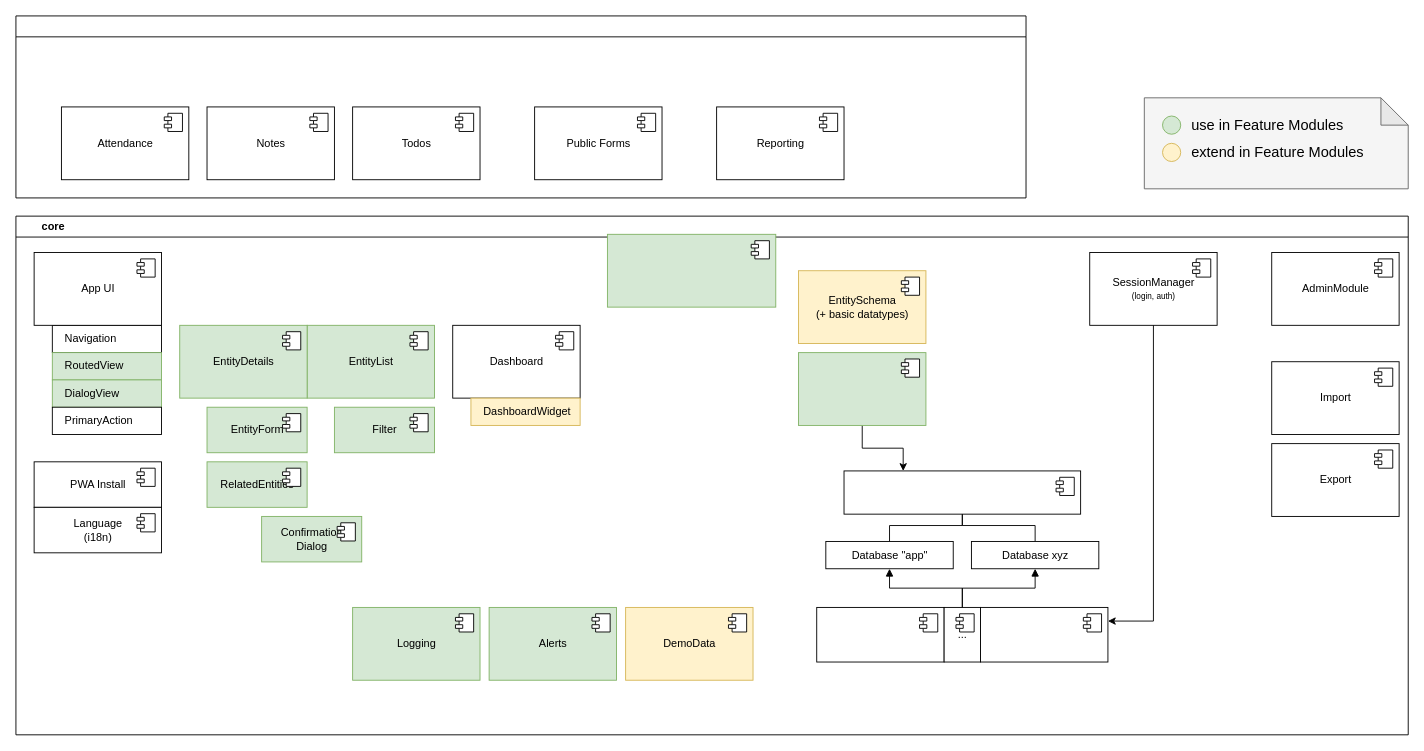
This 1424x751 diagram has some shape labels left out. Each missing label, with the box of its shape:
Config ( ConfigService, EntityRegistry): (607, 233, 776, 307)
DatabaseResolverService: (843, 470, 1081, 514)
EntityMapperService: (798, 352, 926, 425)
features: (15, 15, 1026, 198)
PouchDatabase: (816, 607, 944, 662)
SyncedPouchDatabase: (980, 607, 1108, 662)
